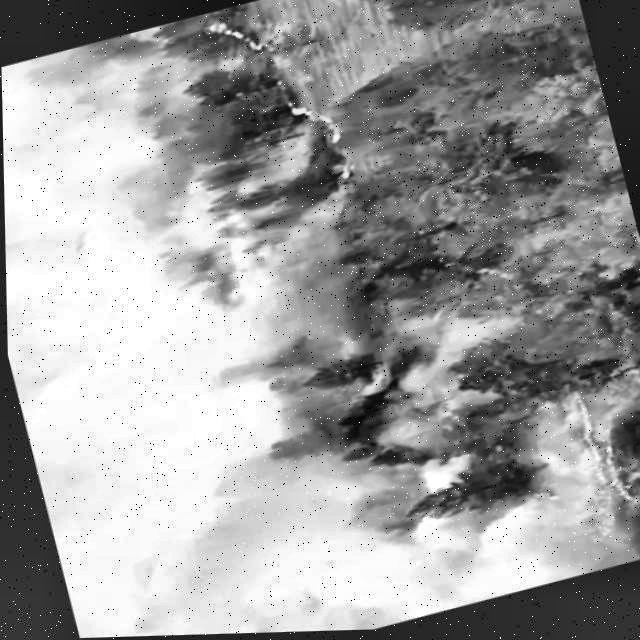Smoke: (0, 2, 391, 640)
